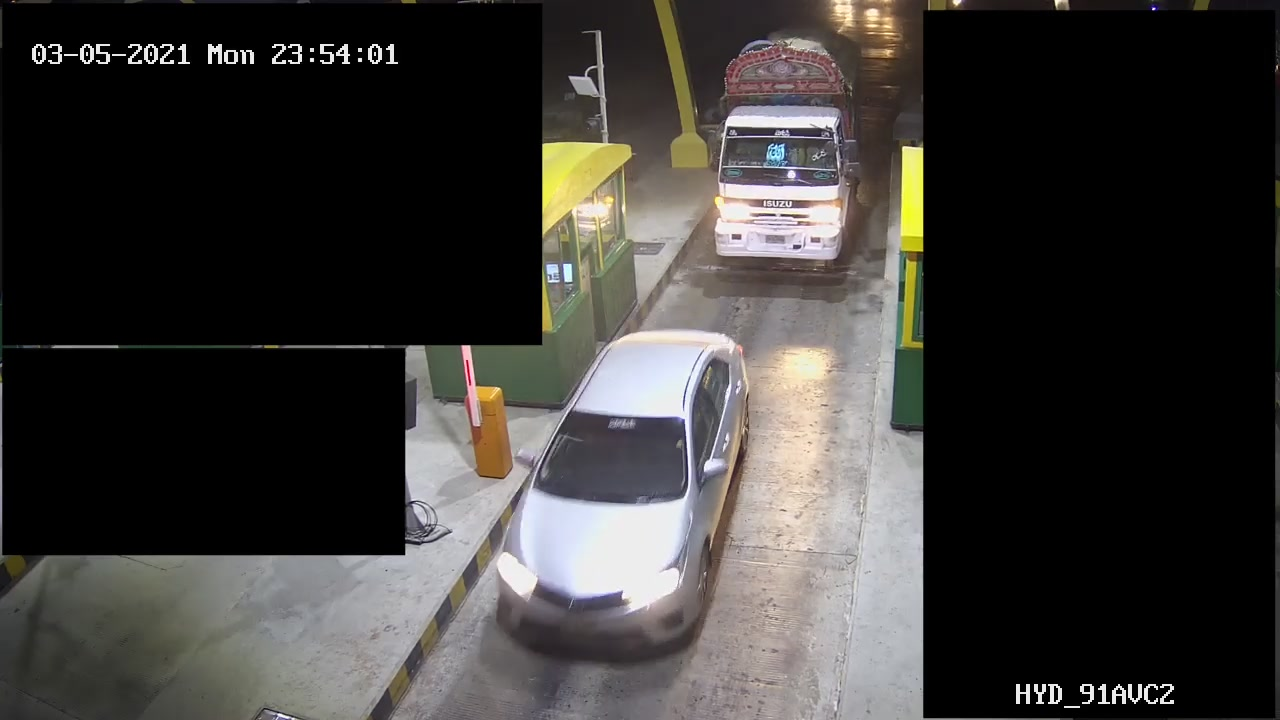F5: (702, 29, 868, 268)
